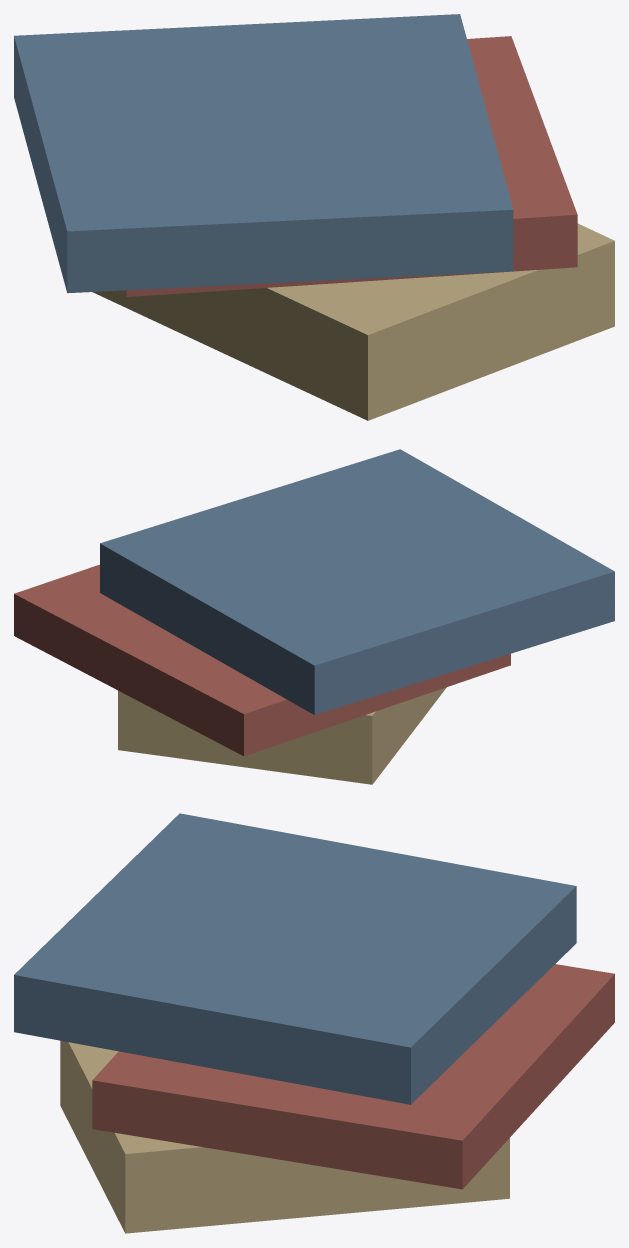
File: mov_bb52d43542.gltf
3 views of the same model, one above another, from view 1: azimuth 30°, elevation 25°; view 2: azimuth 150°, elevation 25°; view 3: azimuth 270°, elevation 25° (orthographic). The views are drawn at different scales.
Visible parts, largest first — view 1: mov_bb52d43542; view 2: mov_bb52d43542; view 3: mov_bb52d43542.
Boxes of the visible parts, x1,y1,x2,y2 form: mov_bb52d43542: (14, 14, 614, 420); mov_bb52d43542: (14, 449, 614, 784); mov_bb52d43542: (14, 813, 614, 1233).
Bounding box in the file's own units: 0.3474 × 0.1113 × 0.3267.
